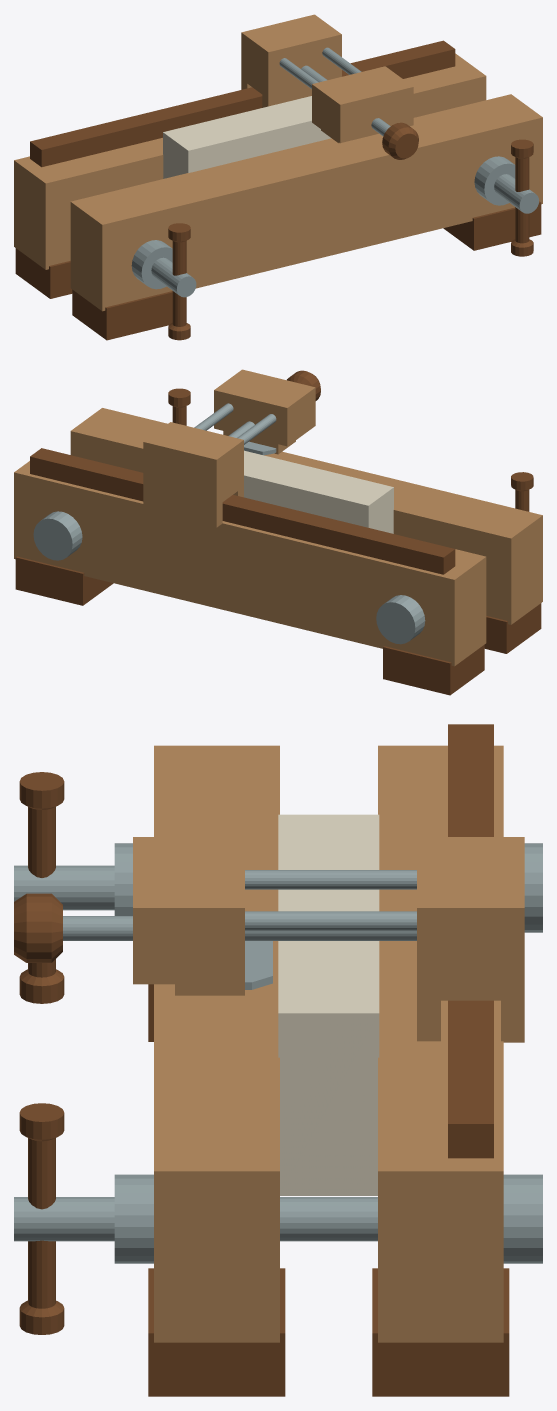
The picture shows the model from 3 angles, top to bottom: view 1: azimuth 30°, elevation 25°; view 2: azimuth 150°, elevation 25°; view 3: azimuth 270°, elevation 25°; orthographic projection. The views are drawn at different scales.
Visible parts, largest first — view 1: WholeFrontLongBoredPressCheek, WholeRearLongBoredPressCheek, WholeRearLongGuideRail, WholeBlankVerticalTextBlock, WholePloughRearGroovedSaddle, WholePloughFrontSteppedCheek, WholeFrontLeftFoot, WholeFrontRightFoot, WholeRightTransversePressSpindle, WholeLeftTransversePressSpindle, WholeLeftPressCrossGrip, WholeRightPressCrossGrip (+5 smaller); view 2: WholeRearLongBoredPressCheek, WholeFrontLongBoredPressCheek, WholeRearLongGuideRail, WholePloughRearGroovedSaddle, WholeBlankVerticalTextBlock, WholePloughFrontSteppedCheek, WholeRearLeftFoot, WholeRearRightFoot, WholeRightTransversePressSpindle, WholeLeftTransversePressSpindle, WholeFrontLeftFoot, WholeLeftPressCrossGrip (+4 smaller); view 3: WholeFrontLongBoredPressCheek, WholeRearLongBoredPressCheek, WholeBlankVerticalTextBlock, WholePloughRearGroovedSaddle, WholePloughFrontSteppedCheek, WholeRightTransversePressSpindle, WholeRearLongGuideRail, WholeRearRightFoot, WholeFrontRightFoot, WholeLeftTransversePressSpindle, WholeRightPressCrossGrip, WholeLeftPressCrossGrip (+5 smaller).
Part boxes in pixels (x1,y1,x2,y2): WholeFrontLongBoredPressCheek: [70, 94, 542, 311]; WholeRearLongBoredPressCheek: [14, 53, 486, 269]; WholeRearLongGuideRail: [30, 40, 455, 167]; WholeBlankVerticalTextBlock: [163, 96, 331, 178]; WholePloughRearGroovedSaddle: [241, 14, 341, 107]; WholePloughFrontSteppedCheek: [312, 66, 413, 143]; WholeFrontLeftFoot: [72, 289, 172, 340]; WholeFrontRightFoot: [443, 201, 541, 250]; WholeRightTransversePressSpindle: [474, 156, 538, 213]; WholeLeftTransversePressSpindle: [131, 240, 196, 297]; WholeLeftPressCrossGrip: [168, 223, 190, 340]; WholeRightPressCrossGrip: [511, 139, 533, 256]; WholeRearLongBoredPressCheek: [14, 461, 486, 666]; WholeFrontLongBoredPressCheek: [70, 408, 542, 624]; WholeRearLongGuideRail: [30, 448, 455, 574]; WholePloughRearGroovedSaddle: [143, 422, 243, 527]; WholeBlankVerticalTextBlock: [244, 450, 393, 533]; WholePloughFrontSteppedCheek: [214, 369, 315, 454]; WholeRearLeftFoot: [383, 644, 484, 695]; WholeRearRightFoot: [15, 556, 113, 605]; WholeRightTransversePressSpindle: [33, 511, 82, 560]; WholeLeftTransversePressSpindle: [376, 595, 425, 644]; WholeFrontLeftFoot: [484, 603, 541, 653]; WholeLeftPressCrossGrip: [511, 472, 533, 511]; WholeFrontLongBoredPressCheek: [154, 745, 279, 1342]; WholeRearLongBoredPressCheek: [378, 745, 503, 1342]; WholeBlankVerticalTextBlock: [278, 814, 379, 1195]; WholePloughRearGroovedSaddle: [417, 837, 524, 1042]; WholePloughFrontSteppedCheek: [133, 837, 244, 995]; WholeRightTransversePressSpindle: [14, 1174, 542, 1263]; WholeRearLongGuideRail: [448, 724, 493, 1158]; WholeRearRightFoot: [372, 1268, 509, 1396]; WholeFrontRightFoot: [148, 1268, 285, 1396]; WholeLeftTransversePressSpindle: [14, 843, 542, 932]; WholeRightPressCrossGrip: [19, 1103, 64, 1334]; WholeLeftPressCrossGrip: [19, 772, 64, 1003].
Size of the model in its own units: 0.72 by 0.285 by 0.378.
